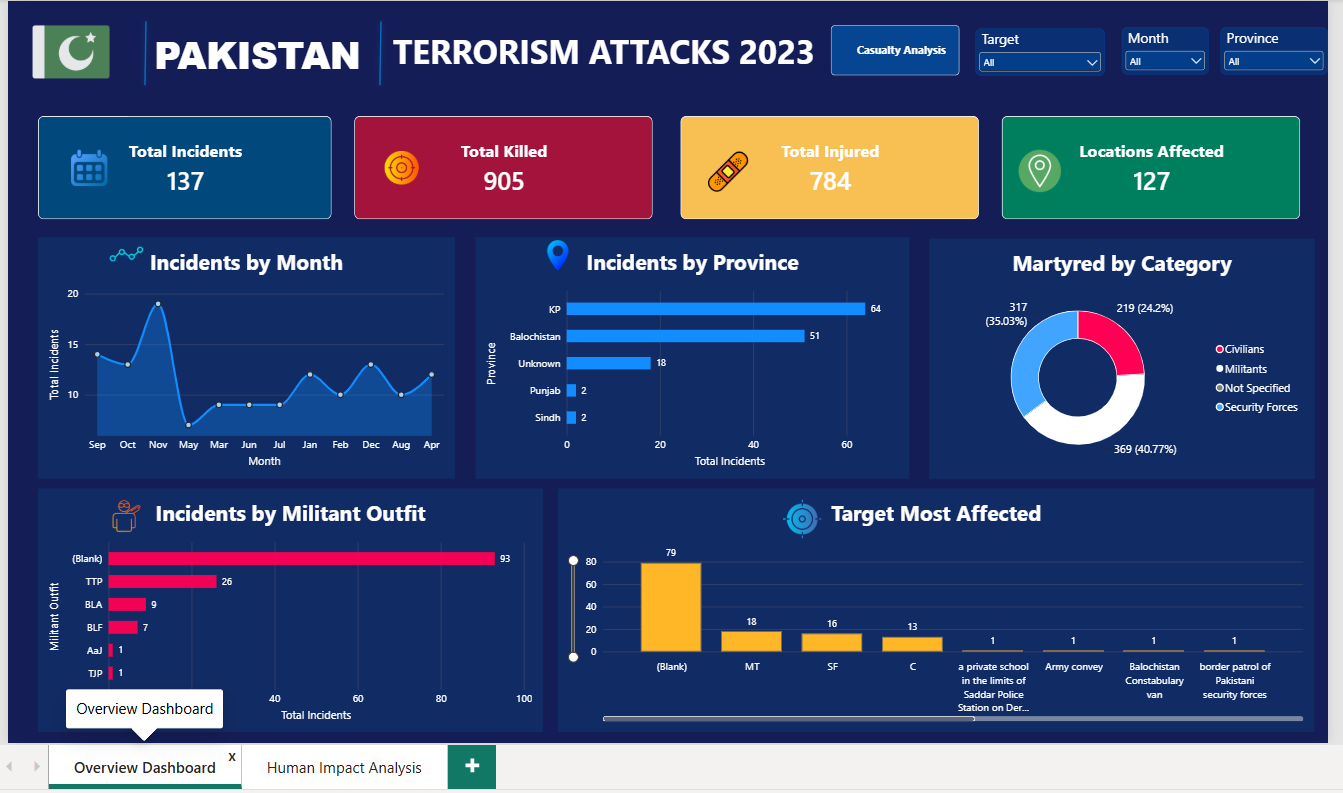

The page's visual inventory and layout, read from the dashboard file:
{"tool":"powerbi","page":{"name":"Overview Dashboard","canvas":[1920,1080],"ordinal":0},"visuals":[{"type":"cardVisual","fields":{"Data":["Measure.Total Incidents"]},"box":[43.8,167,427.8,150.3],"z":0},{"type":"cardVisual","fields":{"Data":["Sum(Terrorism_Attacks_2023.Total Killed)"]},"box":[503,167,434.1,150.3],"z":1000},{"type":"image","box":[541.1,215.3,61.5,56.1],"z":2000},{"type":"cardVisual","fields":{"Data":["Sum(Terrorism_Attacks_2023.Total Injured)"]},"box":[978.8,167,434.1,150.3],"z":3000},{"type":"cardVisual","fields":{"Data":["Measure.Locations Affected"]},"box":[1446.3,167,434.1,150.3],"z":4000},{"type":"image","box":[90.5,217.2,54.3,52.5],"z":5000},{"type":"image","box":[1018.8,219,58.4,60.5],"z":6000},{"type":"image","box":[1464,217.2,74.2,61.5],"z":7000},{"type":"image","box":[10.9,18.1,161.1,112.2],"z":8000},{"type":"shape","box":[184.6,21.7,29,108.6],"z":9000},{"type":"textbox","box":[213.5,39.8,327.5,90.5],"z":10000},{"type":"shape","box":[523,21.7,36.2,108.6],"z":11000},{"type":"textbox","box":[559.2,39.8,624.3,68.8],"z":12000},{"type":"lineChart","title":"Incidents by Month ","fields":{"Y":["Measure.Total Incidents"],"Category":["Terrorism_Attacks_2023.Month Short"]},"box":[43.4,343.8,606.2,351.1],"z":13000},{"type":"image","box":[144.8,343.8,54.3,48.9],"z":14000},{"type":"clusteredBarChart","title":"Incidents by Province","fields":{"Category":["Terrorism_Attacks_2023.Province"],"Y":["Measure.Total Incidents"]},"box":[680.4,343.8,631.6,351.1],"z":15000},{"type":"image","box":[778.2,345.6,43.4,48.9],"z":16000},{"type":"donutChart","title":"Martyred by  Category","fields":{"Y":["Sum(Terrorism_Attacks_2023.Killed-C)","Sum(Terrorism_Attacks_2023.Killed-M)","Sum(Terrorism_Attacks_2023.Killed-NS)","Sum(Terrorism_Attacks_2023.Killed-SF)"]},"box":[1339.1,345.6,561,349.3],"z":17000},{"type":"columnChart","title":"Target Most Affected","fields":{"Y":["Sum(Terrorism_Attacks_2023.Total Number of Incidence)"],"Category":["Terrorism_Attacks_2023.Target"]},"box":[799.9,709.4,1100.3,354.7],"z":18000},{"type":"image","box":[1127.4,725.7,56.1,56.1],"z":19000},{"type":"barChart","title":"Incidents by Militant Outfit","fields":{"Category":["Terrorism_Attacks_2023.Militant Outfit"],"Y":["Measure.Total Incidents"]},"box":[43.4,709.4,734.7,354.7],"z":20000},{"type":"image","box":[141.2,725.7,61.5,47.1],"z":21000},{"type":"slicer","fields":{"Values":["Terrorism_Attacks_2023.Province"]},"box":[1764.4,38,155.6,68.8],"z":22000},{"type":"slicer","fields":{"Values":["Terrorism_Attacks_2023.Target"]},"box":[1407.9,39.8,188.2,68.8],"z":23000},{"type":"slicer","fields":{"Values":["Terrorism_Attacks_2023.Month Short"]},"box":[1619.6,38,126.7,68.8],"z":24000},{"type":"actionButton","title":"B","box":[1196.2,34.4,188.2,74.2],"z":25000}]}

Visuals, with their boxes on the page's 1920x1080 design canvas (x1, y1, x2, y2). These are canvas units, not pixel positions in the 1343x793 screenshot, which may show the page scaled, cropped or inside an application window:
cardVisual - Measure.Total Incidents: 44/167/472/317
cardVisual - Sum(Terrorism_Attacks_2023.Total Killed): 503/167/937/317
image: 541/215/603/271
cardVisual - Sum(Terrorism_Attacks_2023.Total Injured): 979/167/1413/317
cardVisual - Measure.Locations Affected: 1446/167/1880/317
image: 90/217/145/270
image: 1019/219/1077/280
image: 1464/217/1538/279
image: 11/18/172/130
shape: 185/22/214/130
textbox: 214/40/541/130
shape: 523/22/559/130
textbox: 559/40/1184/109
"Incidents by Month " lineChart: 43/344/650/695
image: 145/344/199/393
"Incidents by Province" clusteredBarChart: 680/344/1312/695
image: 778/346/822/394
"Martyred by  Category" donutChart: 1339/346/1900/695
"Target Most Affected" columnChart: 800/709/1900/1064
image: 1127/726/1184/782
"Incidents by Militant Outfit" barChart: 43/709/778/1064
image: 141/726/203/773
slicer - Terrorism_Attacks_2023.Province: 1764/38/1920/107
slicer - Terrorism_Attacks_2023.Target: 1408/40/1596/109
slicer - Terrorism_Attacks_2023.Month Short: 1620/38/1746/107
"B" actionButton: 1196/34/1384/109
